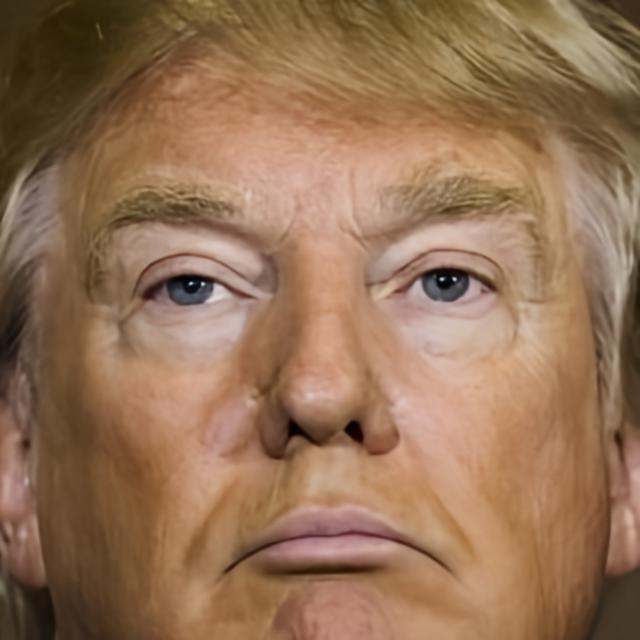sad: (34, 70, 604, 640)
